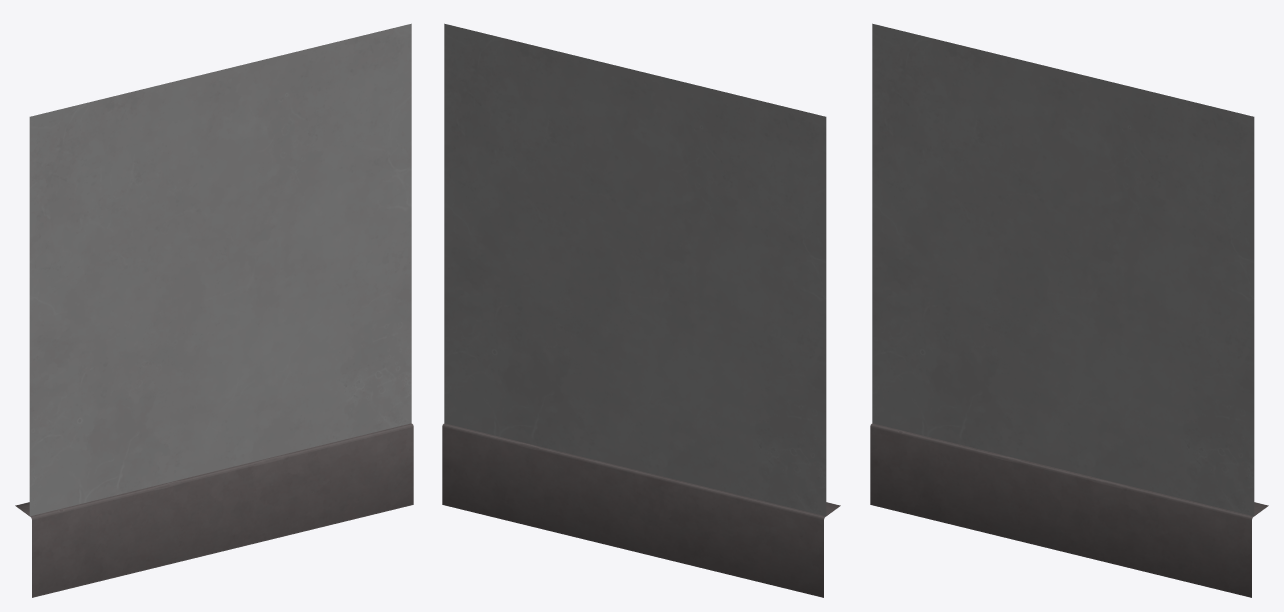
Rendered from SM_Building_Wall_01.glb.
3 renders of one model, left to right at view 1: azimuth 30°, elevation 25°; view 2: azimuth 150°, elevation 25°; view 3: azimuth 330°, elevation 25°, orthographic.
Parts seen in each view (by area): view 1: SM_Building_Wall_01; view 2: SM_Building_Wall_01; view 3: SM_Building_Wall_01.
Part boxes in pixels (x1,y1,x2,y2): SM_Building_Wall_01: [15, 23, 413, 597]; SM_Building_Wall_01: [442, 23, 840, 597]; SM_Building_Wall_01: [870, 23, 1268, 597].
Bounding box in the file's own units: 2.5 × 3 × 0.2.
Materials: 2 (2 with a texture image).
